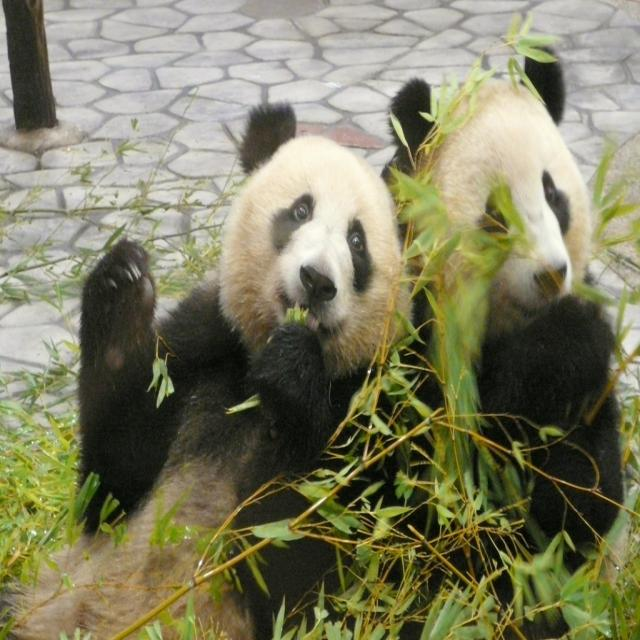panda: (0, 94, 426, 639), (364, 40, 624, 639)
